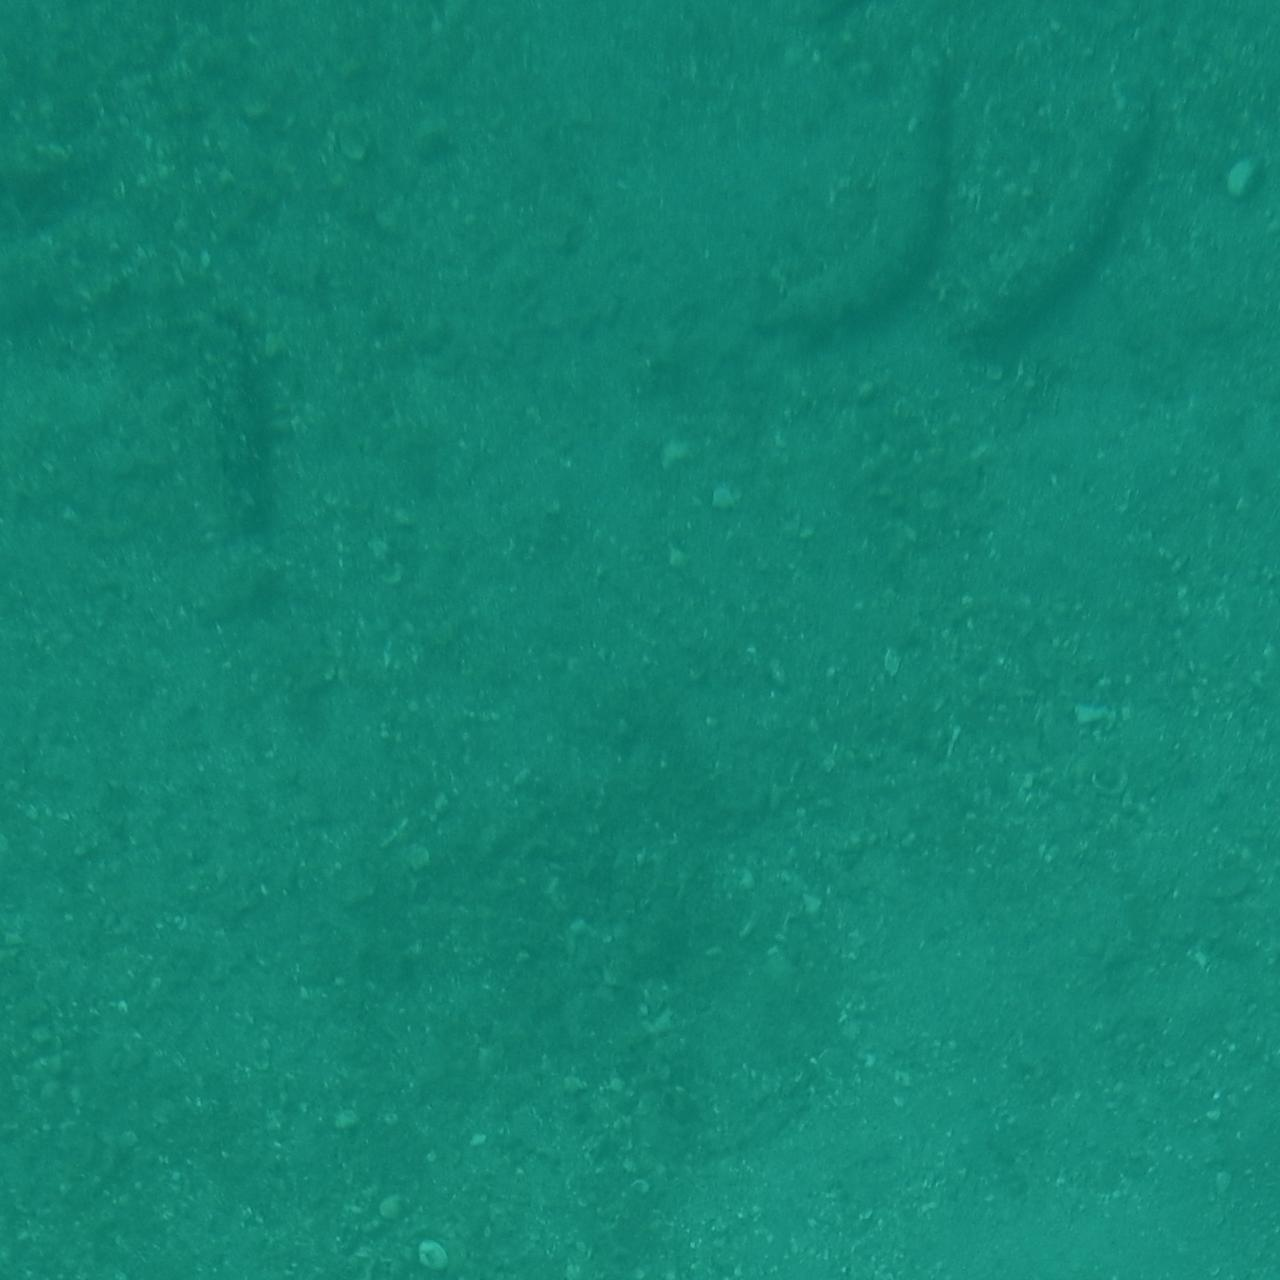Holothuria tubulosa: (735, 28, 966, 374), (940, 69, 1176, 377), (151, 295, 293, 634)
